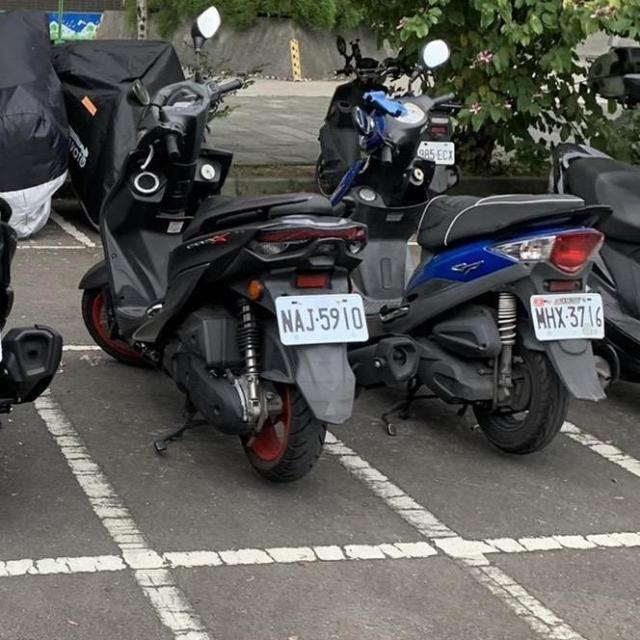W: (267, 289, 375, 350), (519, 289, 612, 343)
